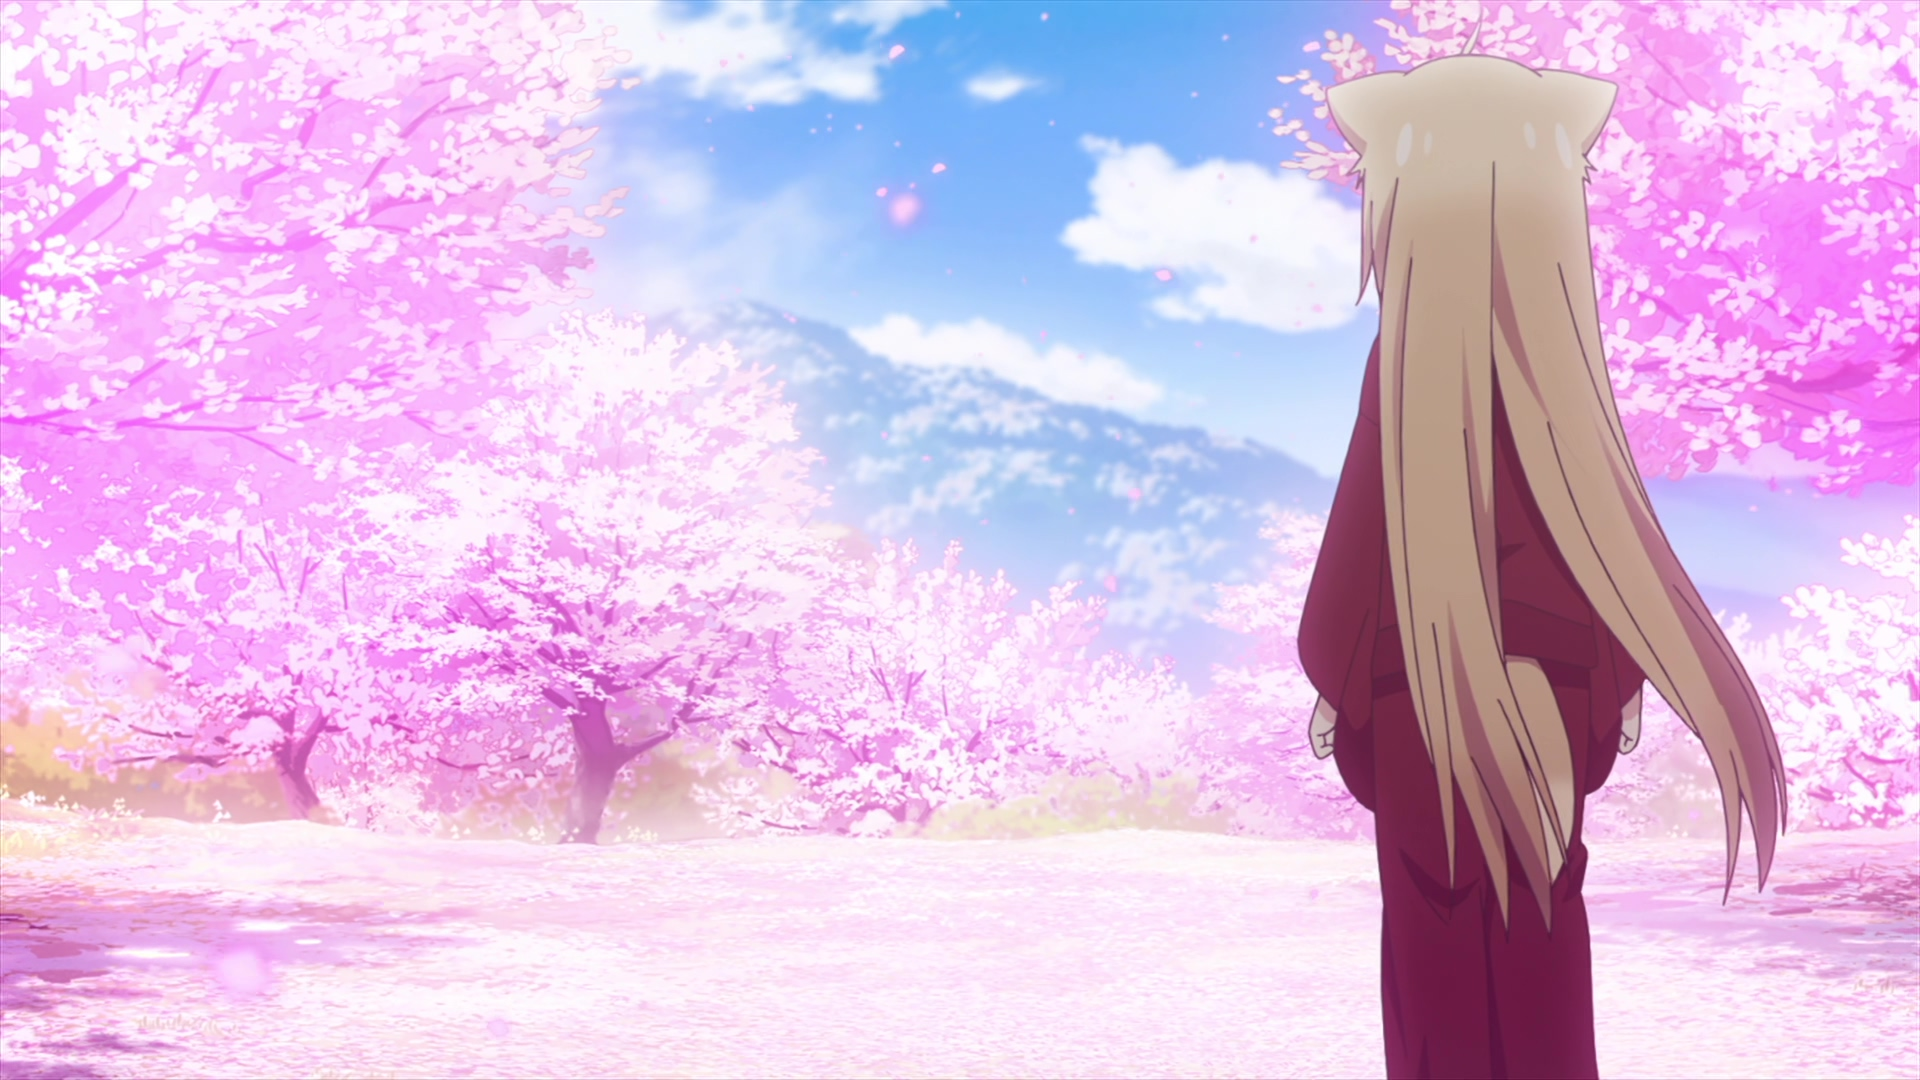柚: (1295, 24, 1788, 1080)
